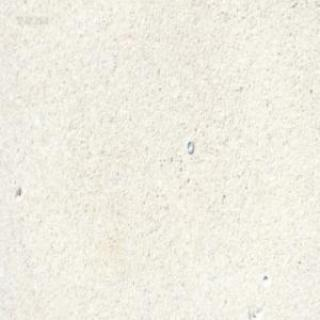Washertrack_idkeyframe: (185, 138, 193, 154)
